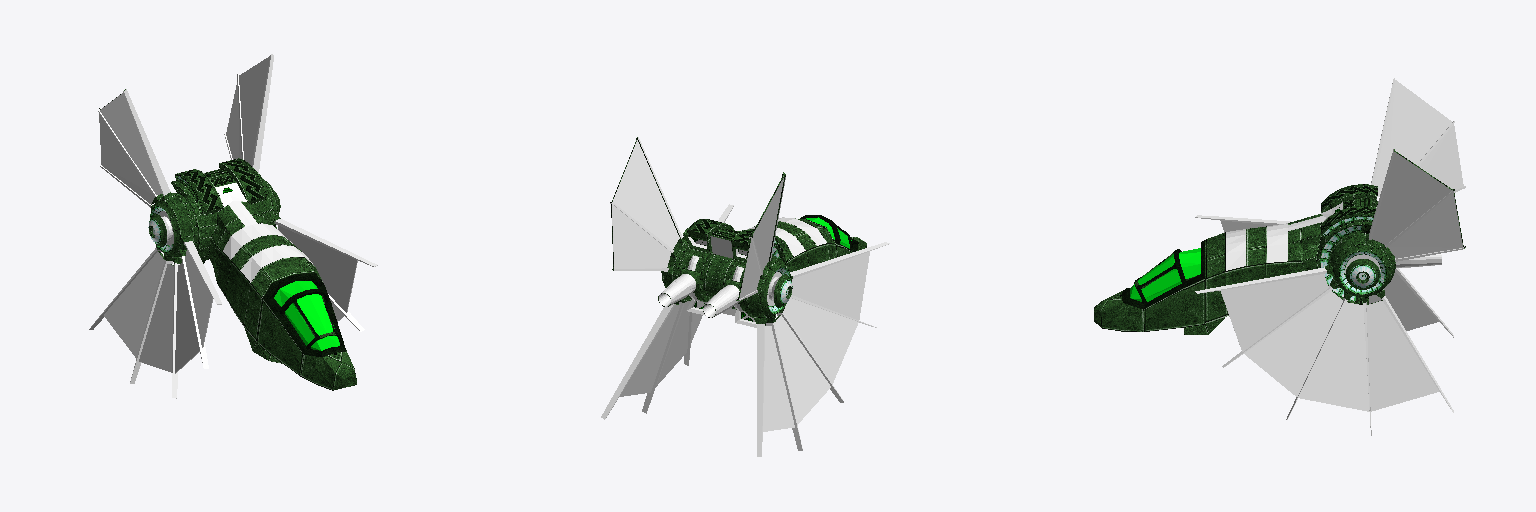
3 renders of one model, left to right at view 1: azimuth 30°, elevation 25°; view 2: azimuth 150°, elevation 25°; view 3: azimuth 270°, elevation 25°, orthographic.
Visible parts, largest first — view 1: BD_Elite; view 2: BD_Elite; view 3: BD_Elite.
Part boxes in pixels (bbox=[...]): BD_Elite: bbox=[89, 54, 377, 398]; BD_Elite: bbox=[601, 137, 889, 456]; BD_Elite: bbox=[1094, 78, 1465, 435].
Bounding box in the file's own units: 31.09 × 52.71 × 62.21.
Materials: 5 (3 with a texture image).